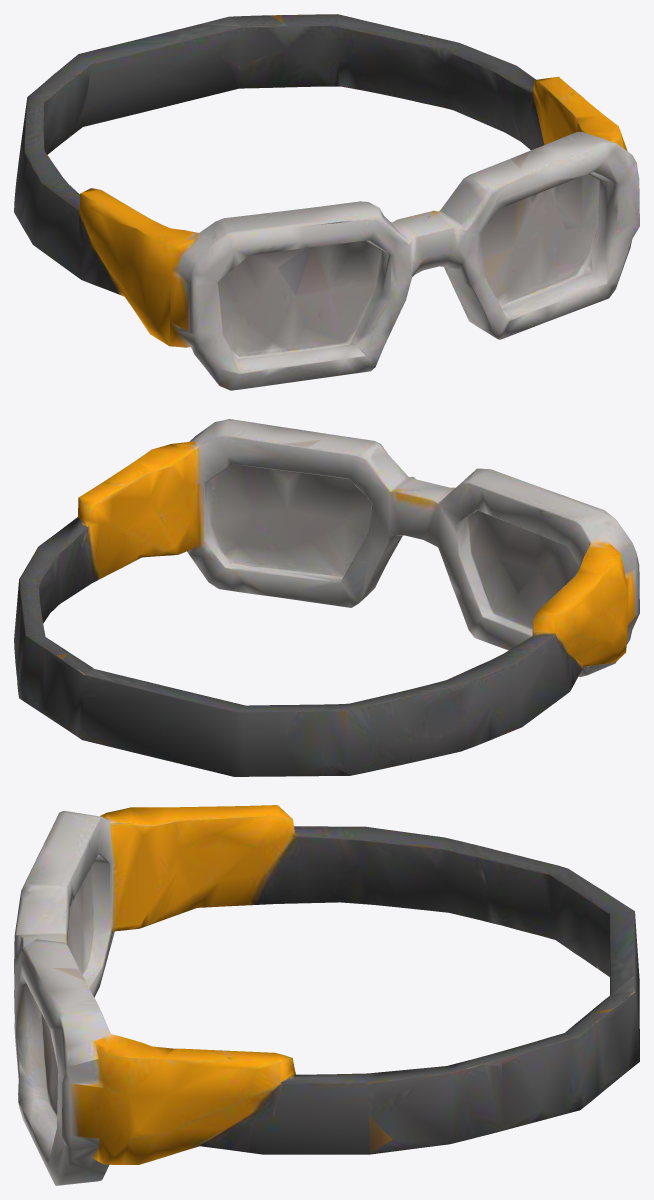
Rendered from null_goggles.glb.
3 renders of one model, top to bottom at view 1: azimuth 30°, elevation 25°; view 2: azimuth 150°, elevation 25°; view 3: azimuth 270°, elevation 25°, orthographic. The views are drawn at different scales.
Parts seen in each view (by area): view 1: node_0; view 2: node_0; view 3: node_0.
Boxes of the visible parts, bbox=[...] form: node_0: bbox=[14, 14, 639, 390]; node_0: bbox=[14, 419, 639, 776]; node_0: bbox=[14, 805, 639, 1185].
Size of the model in its own units: 0.999 by 0.3028 by 1.
1 material, 1 textured.
